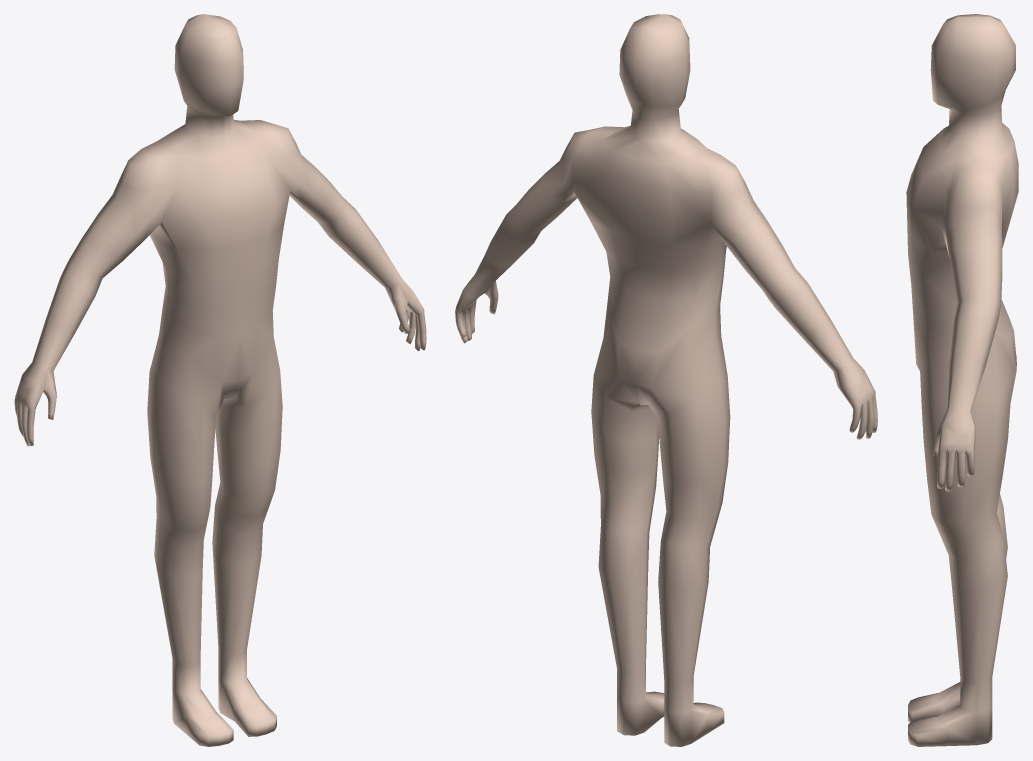
The model's file is male_base_mesh.glb.
3 renders of one model, left to right at view 1: azimuth 30°, elevation 25°; view 2: azimuth 150°, elevation 25°; view 3: azimuth 270°, elevation 25°, orthographic. The views are drawn at different scales.
Parts seen in each view (by area): view 1: piel; view 2: piel; view 3: piel.
Part boxes in pixels (left/top/right/bottom): piel: left=14, top=14, right=426, bottom=746; piel: left=455, top=14, right=877, bottom=746; piel: left=906, top=14, right=1018, bottom=746.
Size of the model in its own units: 1.17 by 1.94 by 0.278.
